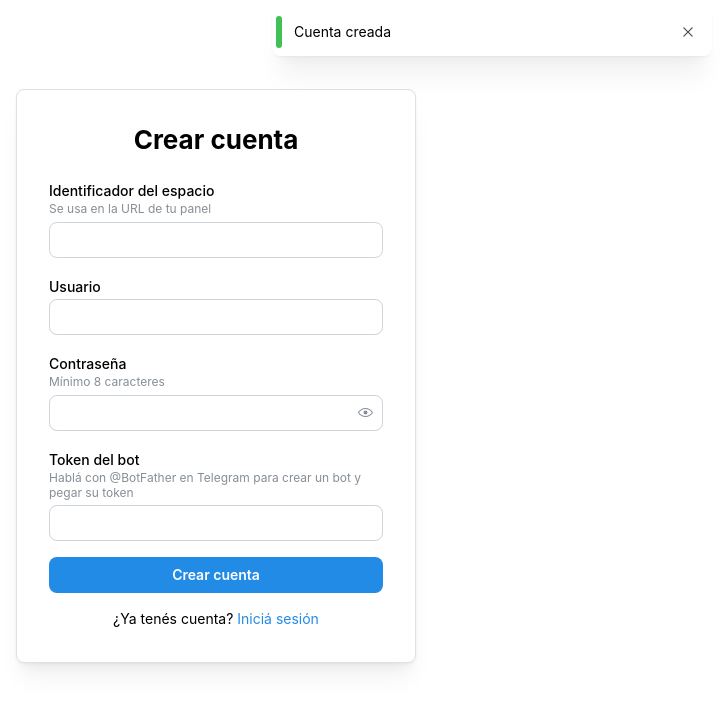
SignupPage › 409 generico muestra el error como mensaje general
In the field labelled "Identificador del espacio": (216,240) [49, 222, 383, 258], type "acme"
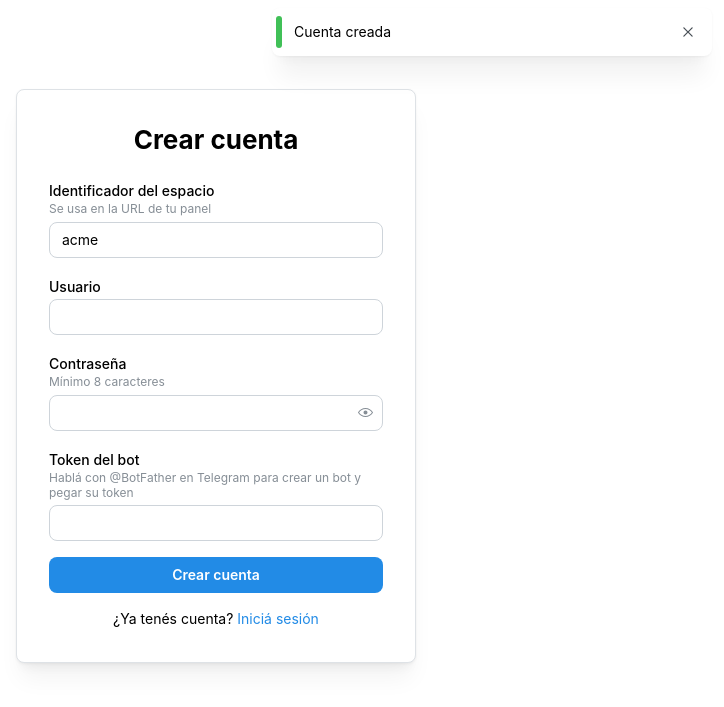
In the field labelled "Usuario": (216,316) [49, 298, 383, 334], type "juan"
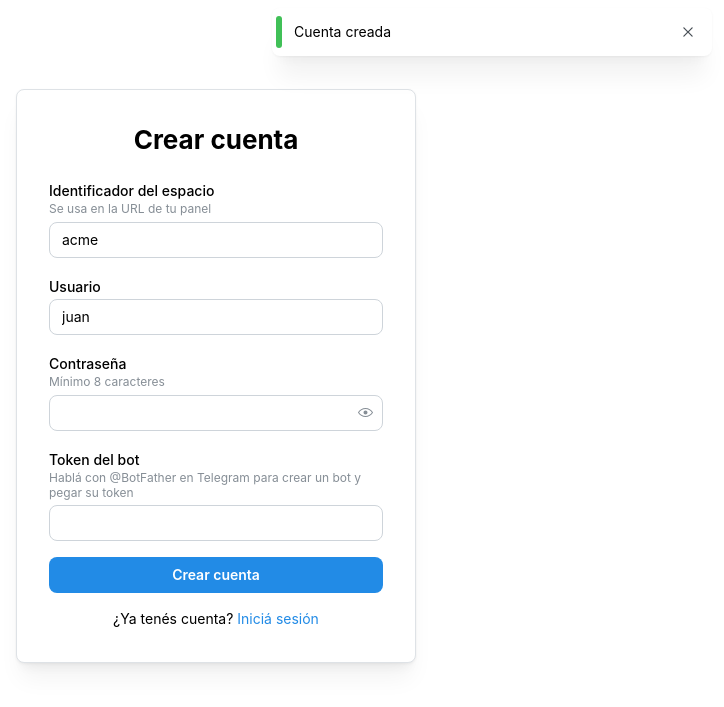
In the password field labelled "Contraseña": (216,413) [50, 396, 382, 430], type "secreto123"
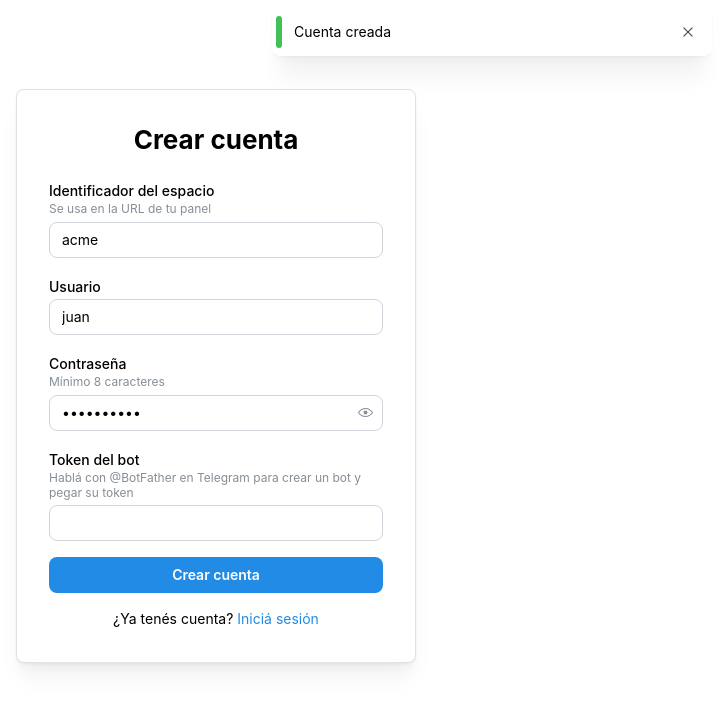
In the field labelled "Token del bot": (216,523) [49, 505, 383, 541], type "SIGNUP_BOT_TOKEN_EXAMPLE"
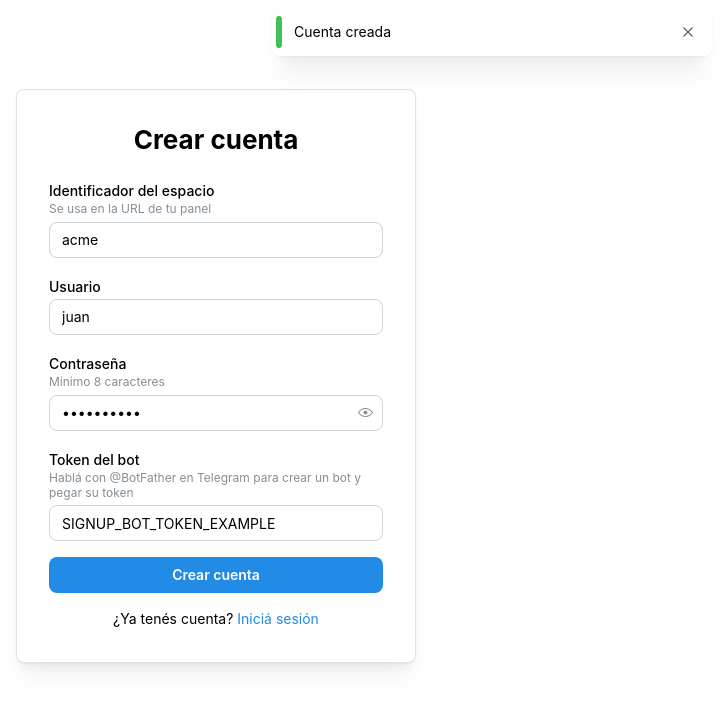
Click the button "Crear cuenta": (216,575) [49, 557, 383, 593]
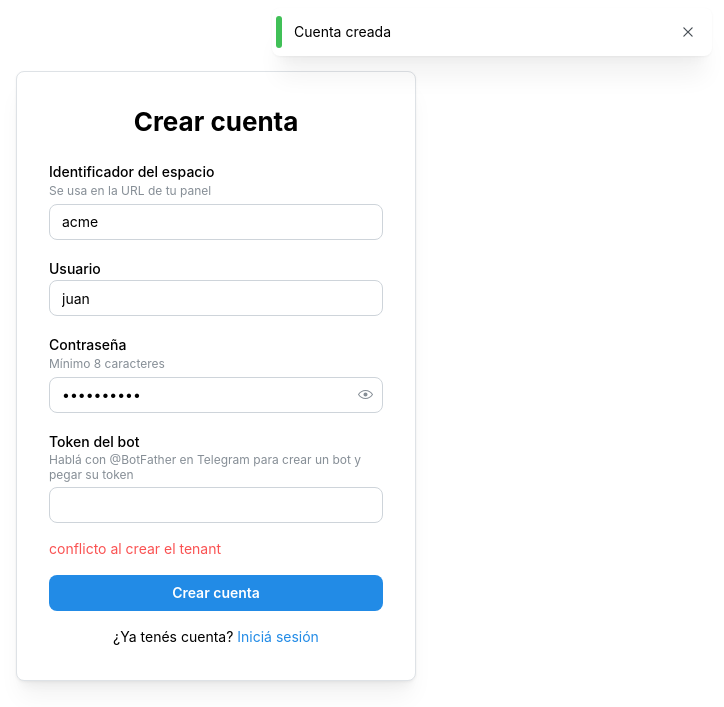
Check: the text "conflicto al crear el tenant" is shown, box [49, 540, 221, 557]
